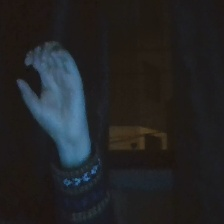C: (10, 38, 95, 147)
